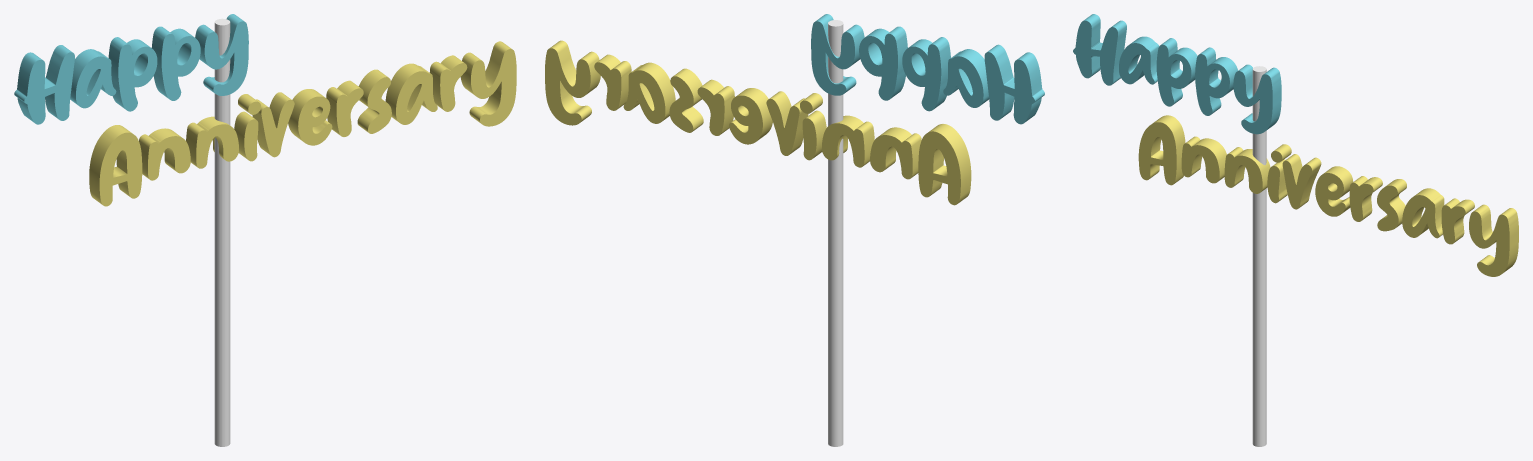
Rendered from anniversary_stick3.glb.
3 views of the same model, side by side, from view 1: azimuth 30°, elevation 25°; view 2: azimuth 150°, elevation 25°; view 3: azimuth 330°, elevation 25° (orthographic). The views are drawn at different scales.
Parts seen in each view (by area): view 1: Text.001, Text, Cylinder; view 2: Text.001, Text, Cylinder; view 3: Text.001, Text, Cylinder.
Boxes of the visible parts, x1,y1,x2,y2 form: Text.001: (89,41,516,206); Text: (14,14,248,124); Cylinder: (214,18,230,446); Text.001: (545,40,971,205); Text: (811,14,1044,124); Cylinder: (828,20,843,446); Text.001: (1138,115,1518,276); Text: (1073,14,1281,134); Cylinder: (1252,66,1266,446).
Bounding box in the file's own units: 1.57 × 1.32 × 0.0592.
